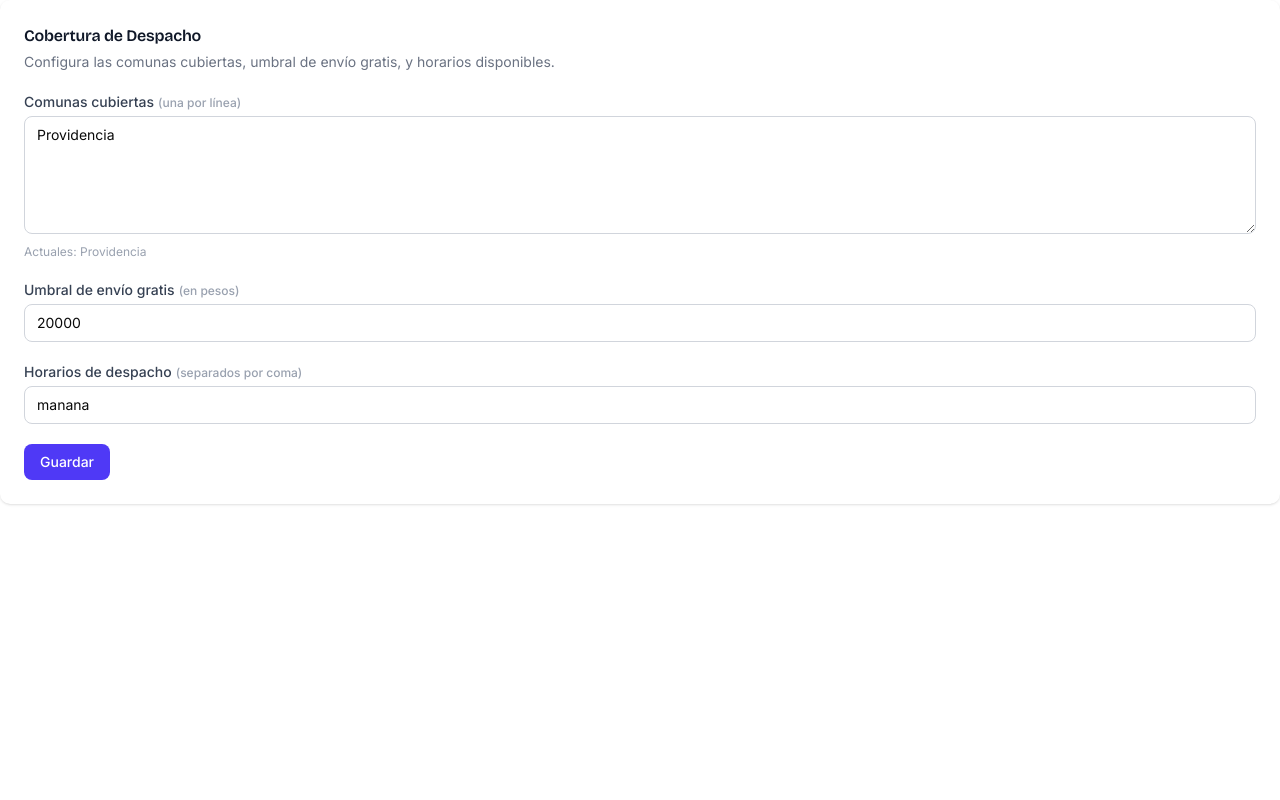
Test case: CoberturaSettings › shows error when action returns error
Click the button "Guardar": (67, 462) [24, 444, 110, 480]
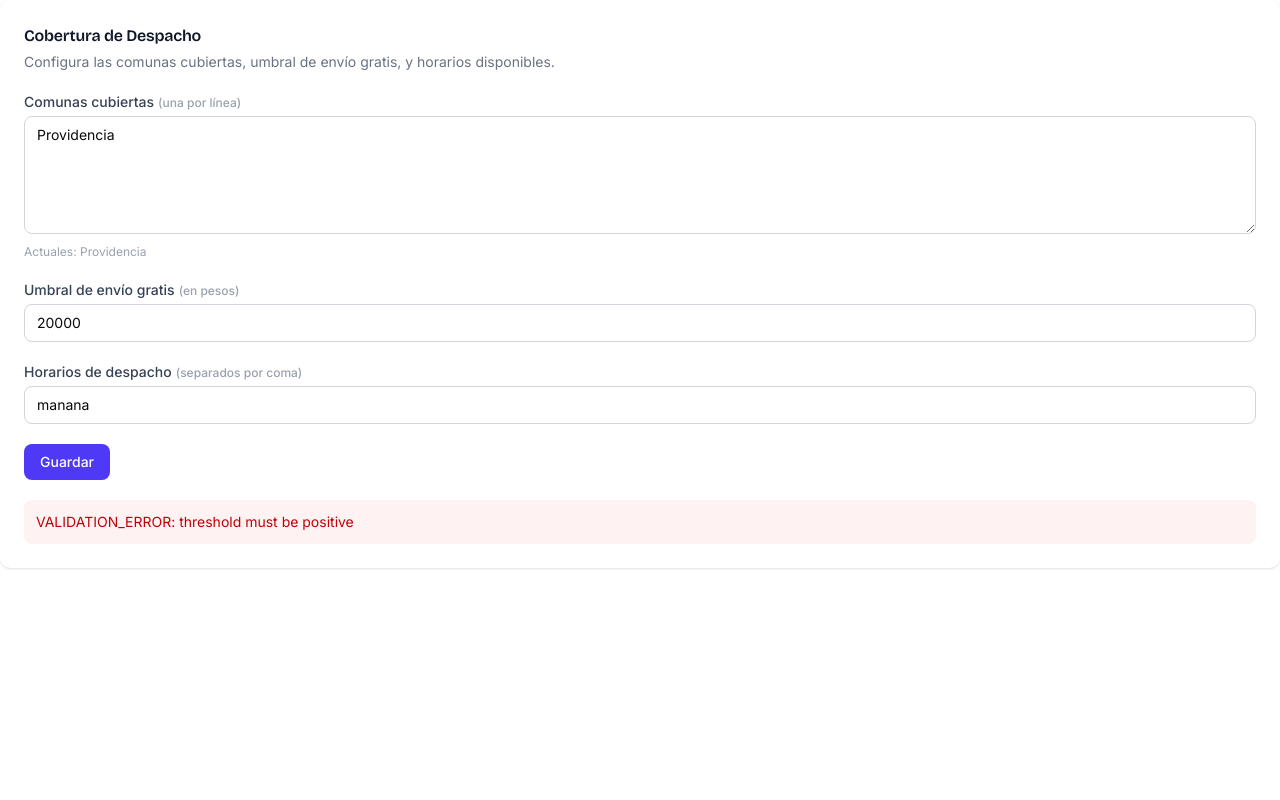
Expected: the text "VALIDATION_ERROR: threshold must be positive" is shown, [24, 500, 1256, 544]
